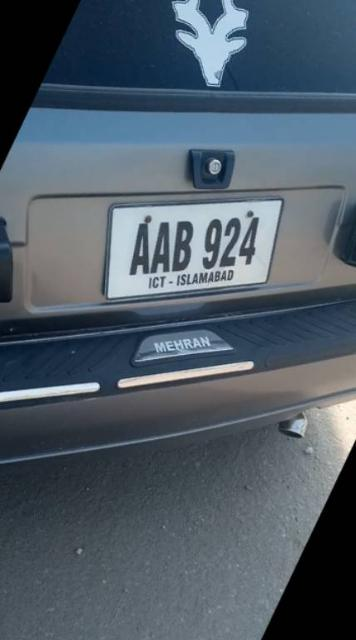plate: (106, 190, 280, 288)
